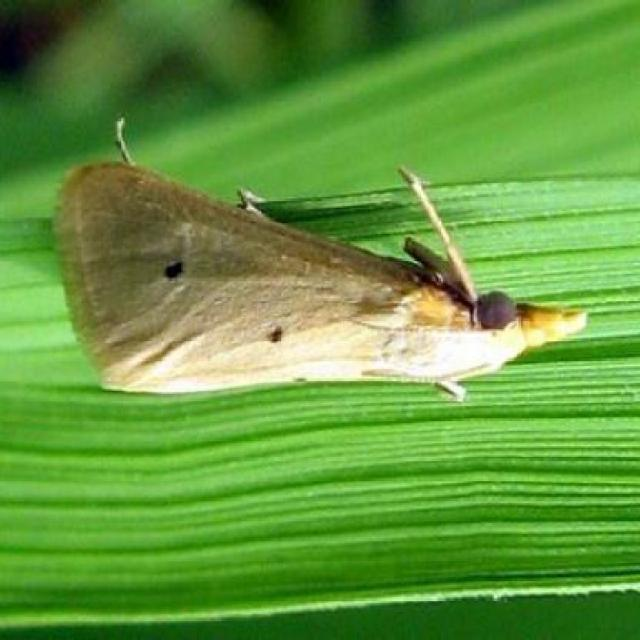stem-borer: (47, 115, 590, 408)
